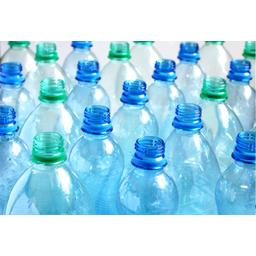plastic: (2, 128, 91, 217), (67, 100, 130, 219), (158, 105, 220, 218), (115, 128, 181, 217), (106, 73, 161, 163), (21, 75, 77, 152), (214, 127, 256, 217), (67, 56, 110, 109)
